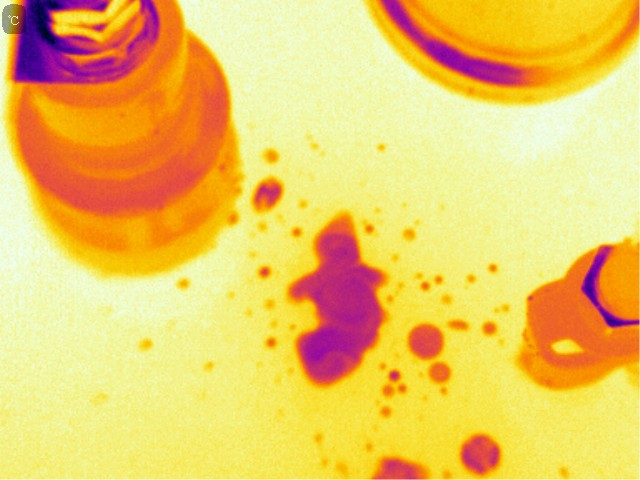Water: (287, 213, 386, 391), (405, 218, 499, 310), (461, 429, 505, 477), (365, 455, 428, 480), (406, 323, 446, 360), (255, 178, 284, 209), (378, 359, 404, 381), (380, 385, 416, 400), (430, 362, 450, 381), (477, 320, 498, 337), (173, 276, 192, 292), (374, 139, 390, 158), (448, 316, 468, 331), (378, 404, 394, 419), (262, 148, 278, 162), (264, 296, 278, 312), (138, 337, 152, 350), (264, 337, 279, 348), (500, 301, 511, 316), (258, 265, 269, 278)
